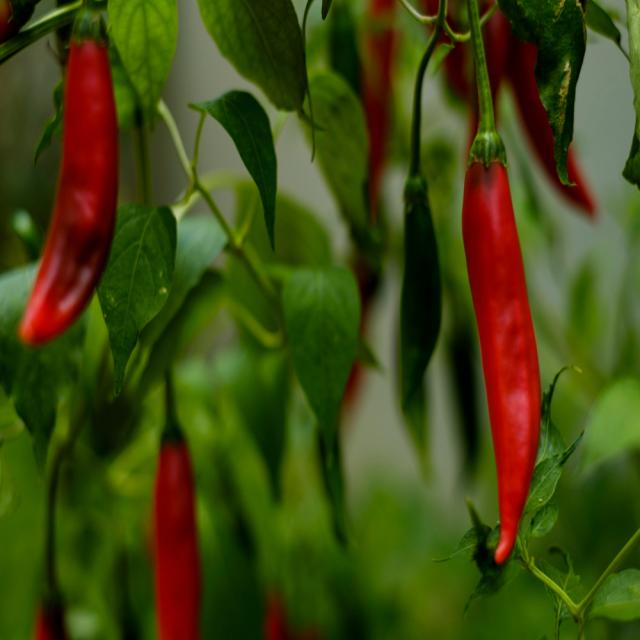Ripe: (462, 161, 541, 563), (19, 39, 119, 346)
